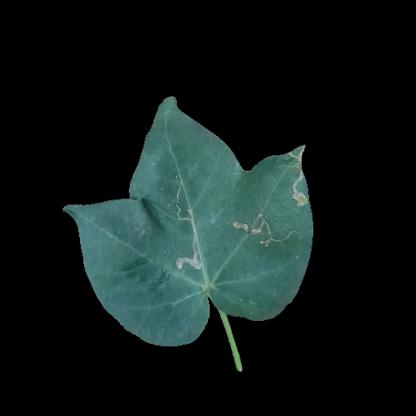healthy: (148, 140, 224, 292), (229, 176, 297, 293), (92, 210, 169, 293)
